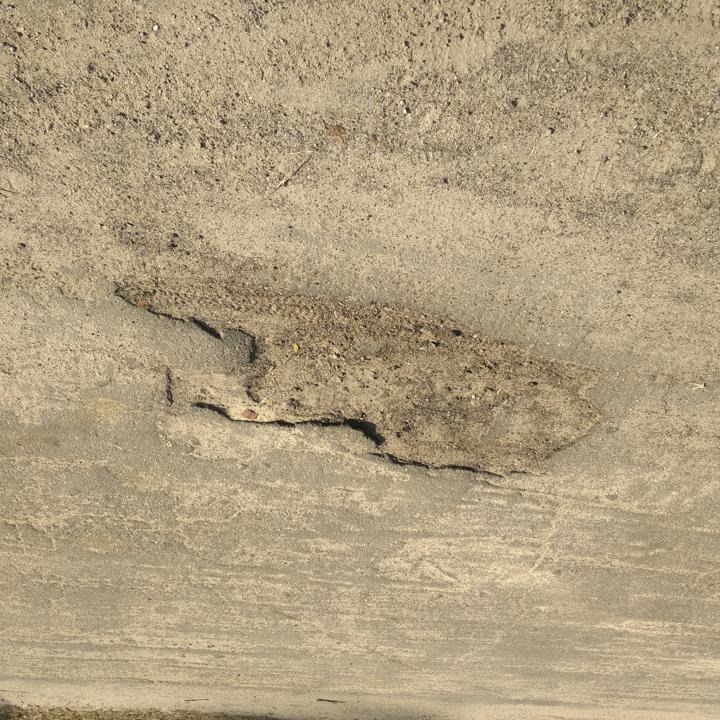pothole: (105, 271, 609, 485)
